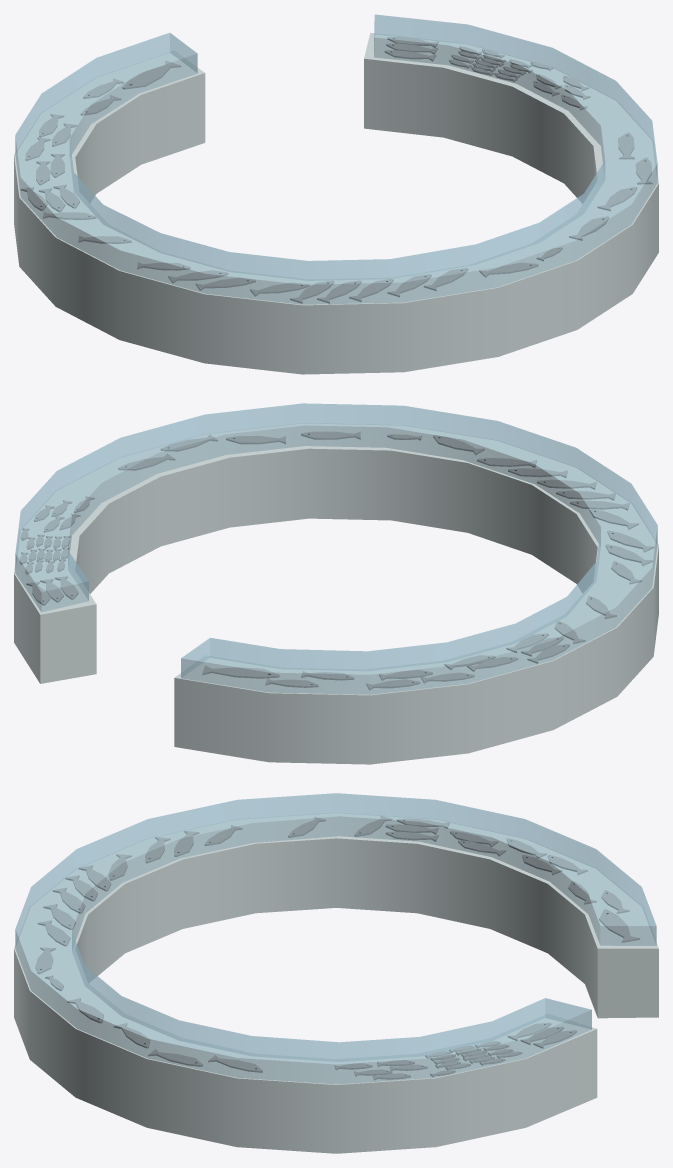
Rendered from Seafood Shelf.fbx.
3 renders of one model, top to bottom at view 1: azimuth 30°, elevation 25°; view 2: azimuth 150°, elevation 25°; view 3: azimuth 270°, elevation 25°, orthographic.
Visible parts, largest first — view 1: presentoire_cylindrique_sea_food; view 2: presentoire_cylindrique_sea_food; view 3: presentoire_cylindrique_sea_food.
Boxes of the visible parts, x1,y1,x2,y2 form: presentoire_cylindrique_sea_food: (14, 14, 658, 374); presentoire_cylindrique_sea_food: (14, 403, 658, 764); presentoire_cylindrique_sea_food: (14, 793, 658, 1153).
Bounding box in the file's own units: 6.81 × 1.05 × 6.81.
